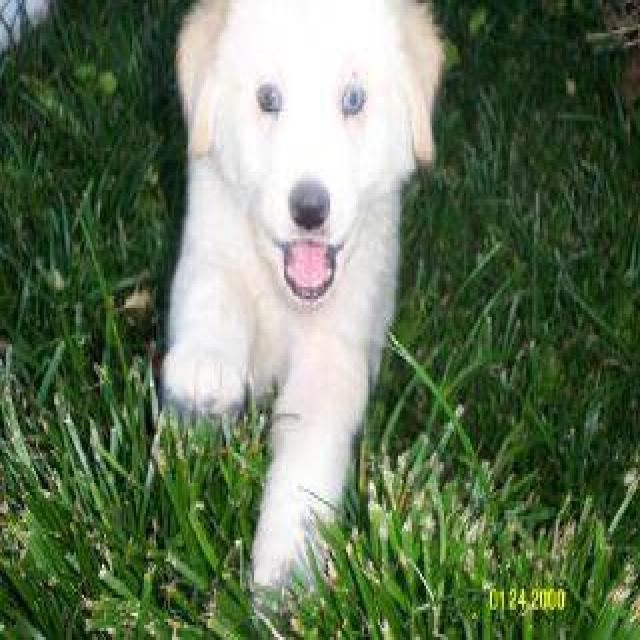dog: (158, 0, 446, 622)
